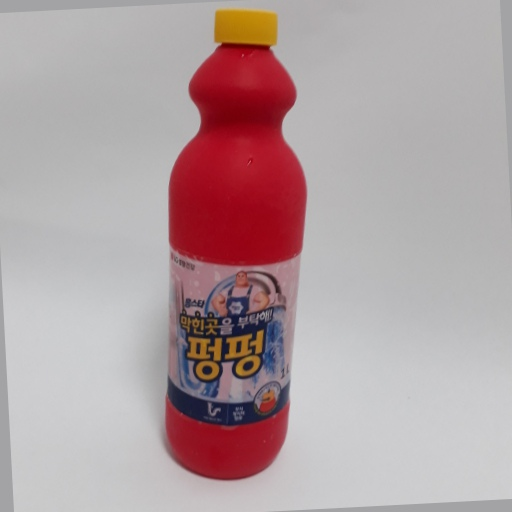Plastic_0: (163, 6, 310, 487)
